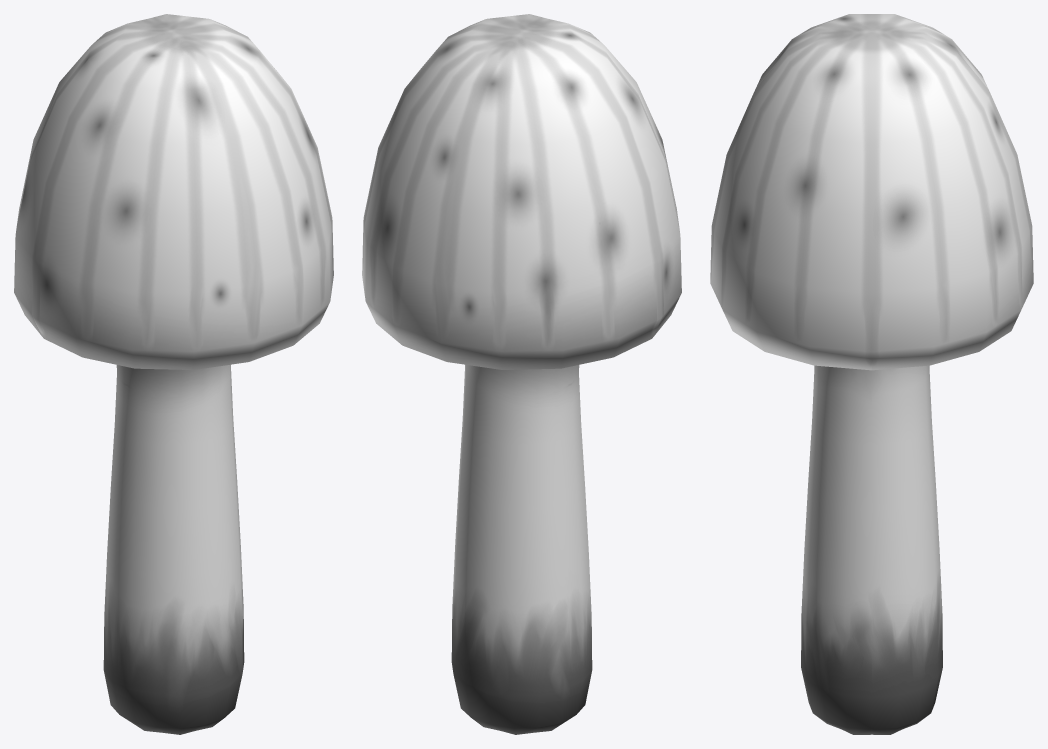
File: Mushroom_Tall.fbx
The picture shows the model from 3 angles, left to right: view 1: azimuth 30°, elevation 25°; view 2: azimuth 150°, elevation 25°; view 3: azimuth 270°, elevation 25°; orthographic projection.
Visible parts, largest first — view 1: Cube.002; view 2: Cube.002; view 3: Cube.002.
Part boxes in pixels (bbox=[...]): Cube.002: bbox=[14, 14, 333, 734]; Cube.002: bbox=[362, 14, 681, 734]; Cube.002: bbox=[710, 14, 1033, 734].
Bounding box in the file's own units: 485 × 1138 × 485.
